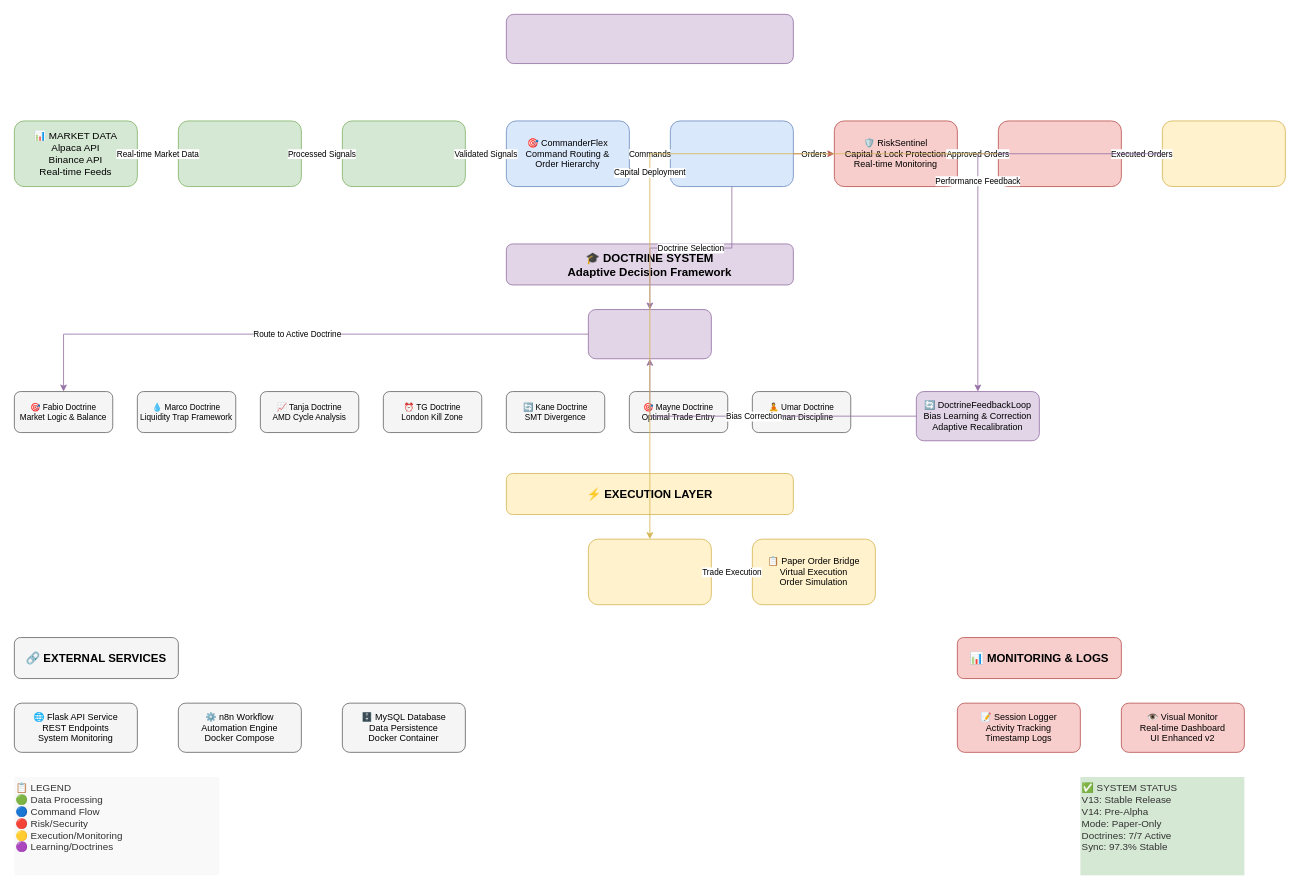
The diagram is 1300 pixels wide and 890 high, and some of its shapes have lost their labels. Here are the shapes that lost their labels. From the top down, the centre of each, then its label:
(649,39): 🎯 V13 TRADING SYSTEM ARCHITECTURE Adaptive Manual Trading Engine
(239,153): 📡 TelemetryFusion Market Feed & Volatility Monitoring (1m intervals)
(403,153): ✅ SignalValidator Integrity Gate SHA256 Validation
(731,153): 🌉 DoctrineBridge Tactical Relay Executor
(1059,153): 🔒 BridgeGuardian Relay Sync Integrity 97% Stability
(1223,153): 📈 PerformanceTracker Persistent Trade Logging Metrics & Analytics
(649,334): 🧠 AdaptiveDoctrineMatrix Dynamic Routing Logic
(649,571): ⚔️ SOLDIERS Trading Agents (Balls) Capital Deployment
